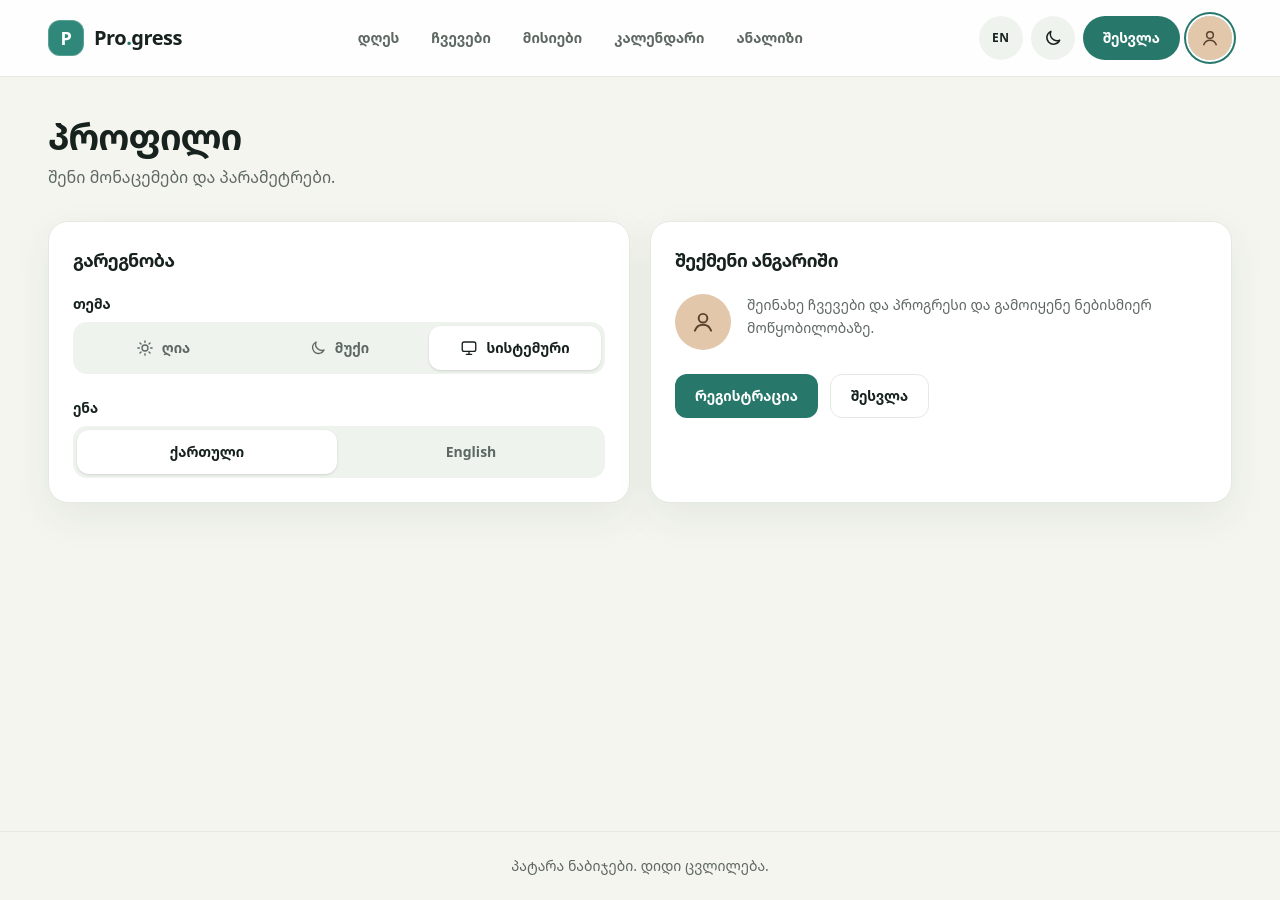
Test case: languages (TDD §11.5) › can switch language from the profile page
Click the radio button labelled "English".
click(471, 452)  # box top-left (446, 442), bottom-right (496, 461)
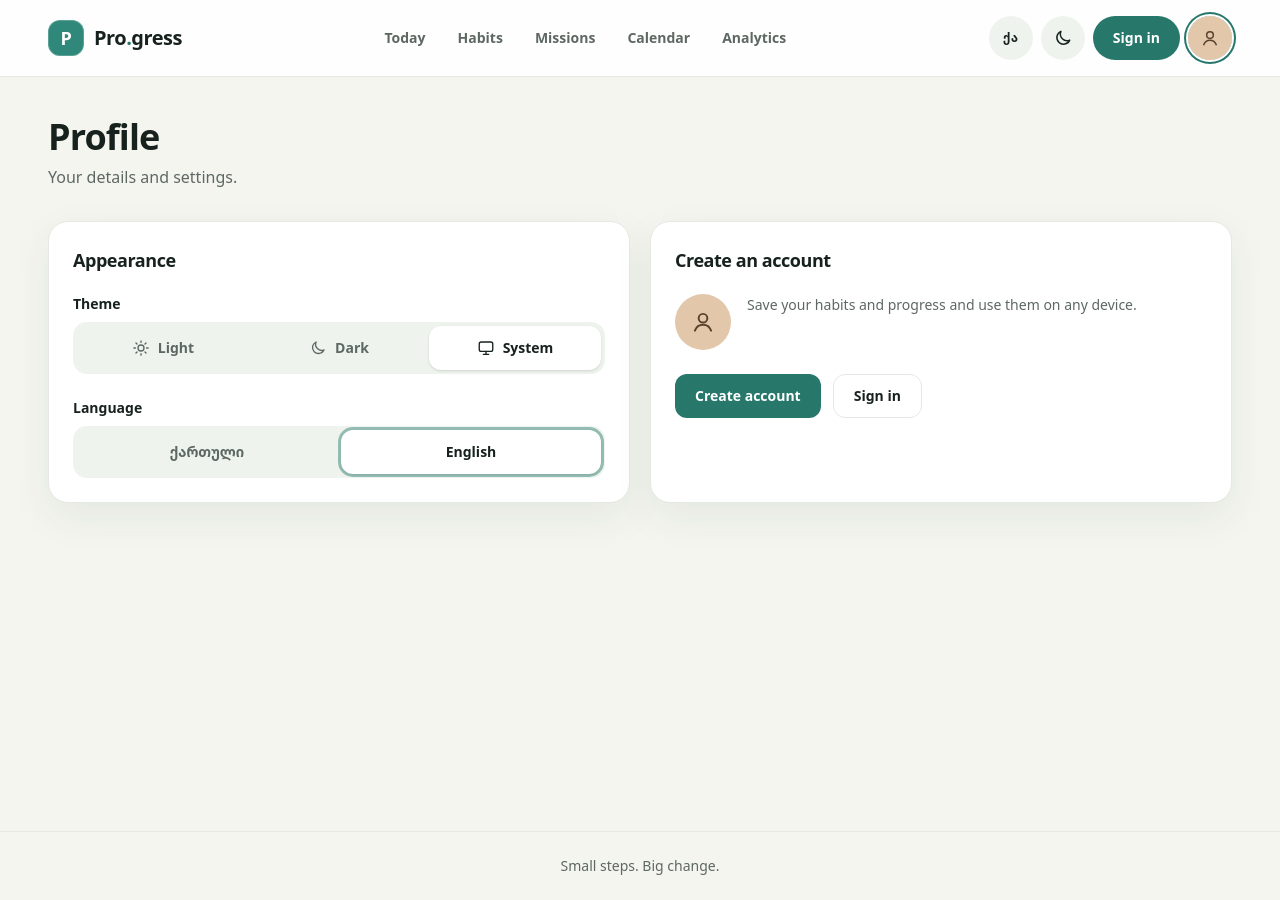
Now the radio button labelled "English" is checked, box top-left (341, 430), bottom-right (601, 474)
Now the heading "Profile" is shown, box top-left (48, 112), bottom-right (159, 161)
